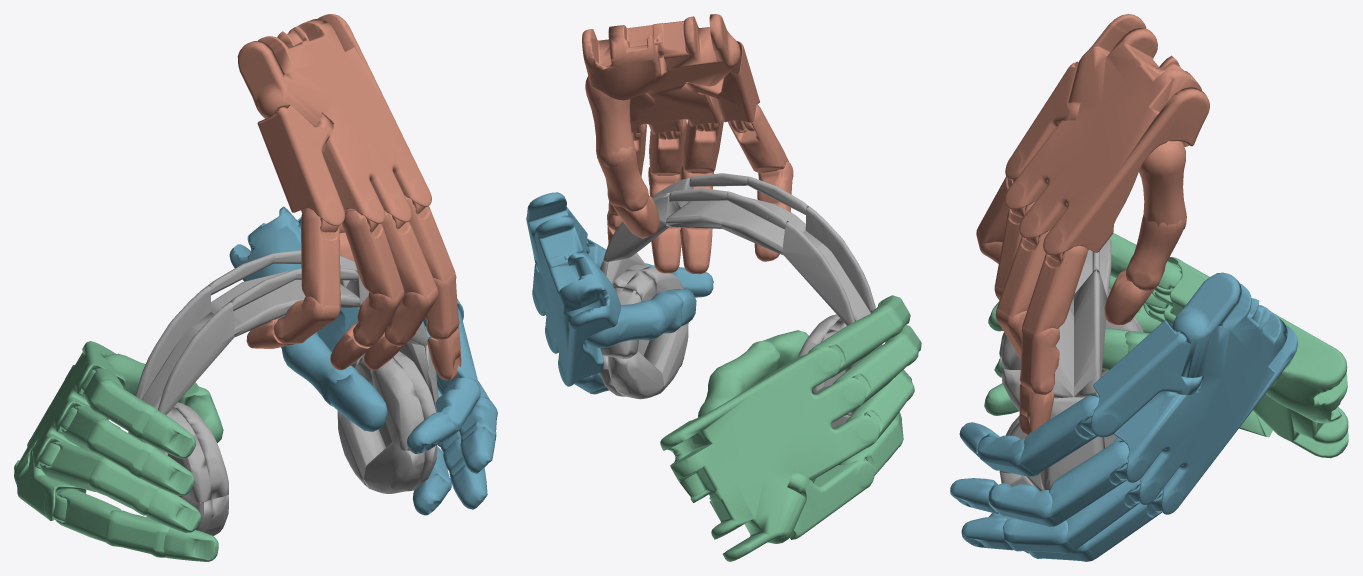
3 views of the same model, side by side, from view 1: azimuth 30°, elevation 25°; view 2: azimuth 150°, elevation 25°; view 3: azimuth 270°, elevation 25° (orthographic). The views are drawn at different scales.
Bounding box in the file's own units: 0.2382 × 0.2776 × 0.2002.
